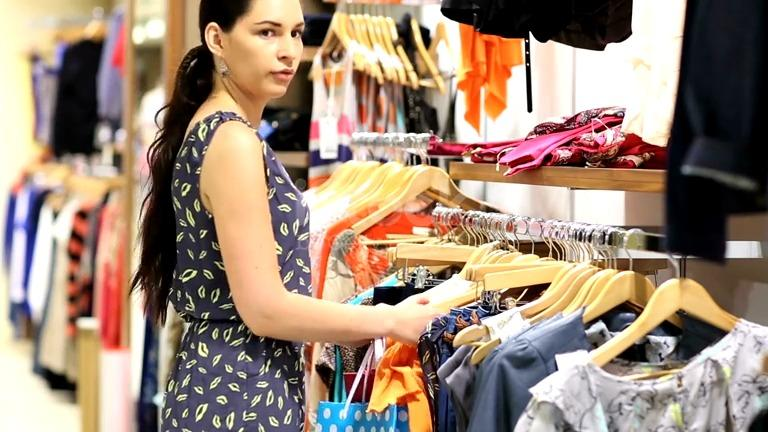Non shoplifting: (119, 0, 451, 432)
